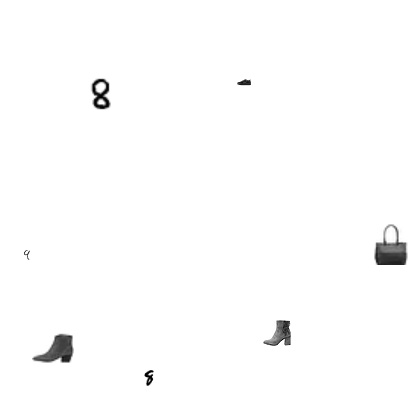0: (95, 204, 109, 218)
6: (249, 136, 305, 192), (127, 353, 141, 367)
Ankle_boot: (150, 221, 178, 249)
Bag: (253, 320, 295, 362)
Pullover: (159, 372, 181, 394)
Shirt: (313, 68, 341, 96)
Sneaker: (343, 77, 371, 105)
